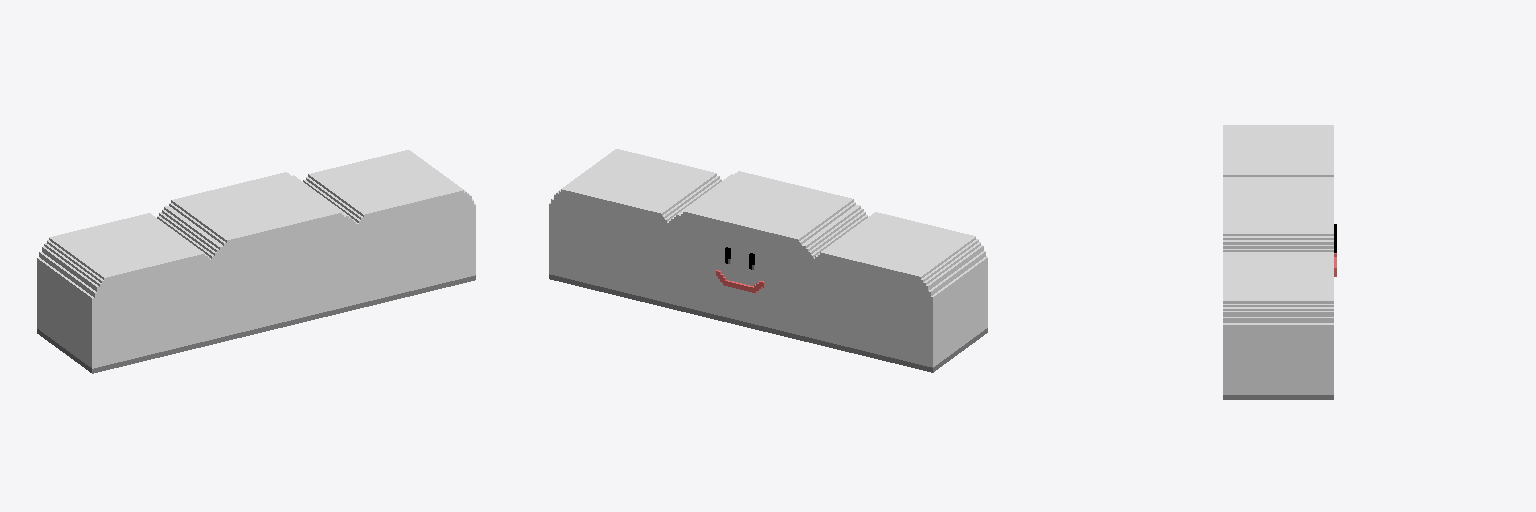
3 views of the same model, side by side, from view 1: azimuth 30°, elevation 25°; view 2: azimuth 150°, elevation 25°; view 3: azimuth 270°, elevation 25° (orthographic).
Visible parts, largest first — view 1: object 1; view 2: object 1; view 3: object 1.
Part boxes in pixels (x1,y1,x2,y2): object 1: (37,150,475,373); object 1: (549,149,987,372); object 1: (1223,125,1336,399).
Size of the model in its own units: 16 by 4 by 4.1.
1 materials, 1 textured.